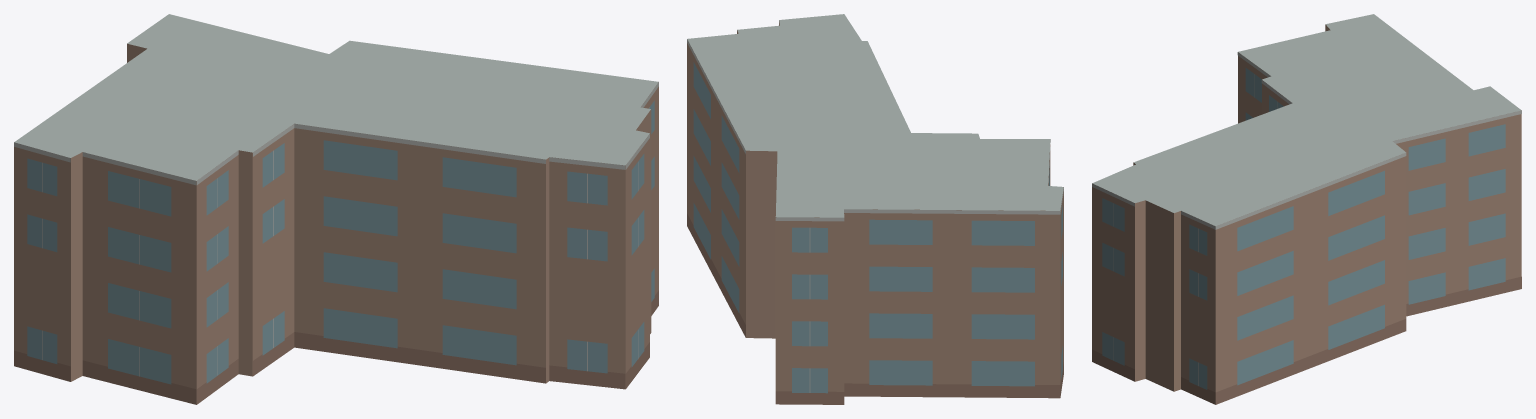
File: survey-upis-32772879.glb
3 views of the same model, side by side, from view 1: azimuth 30°, elevation 25°; view 2: azimuth 150°, elevation 25°; view 3: azimuth 270°, elevation 25° (orthographic). The views are drawn at different scales.
Visible parts, largest first — view 1: survey-upis-32772879.tmp; view 2: survey-upis-32772879.tmp; view 3: survey-upis-32772879.tmp.
Boxes of the visible parts, box(x1,y1,x2,y2) form: survey-upis-32772879.tmp: box(14, 14, 658, 404); survey-upis-32772879.tmp: box(687, 14, 1063, 404); survey-upis-32772879.tmp: box(1092, 14, 1521, 404).
Bounding box in the file's own units: 31.11 × 12.2 × 26.61.
